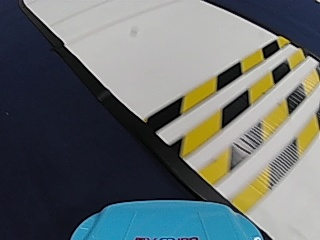bump: (172, 39, 320, 175)
